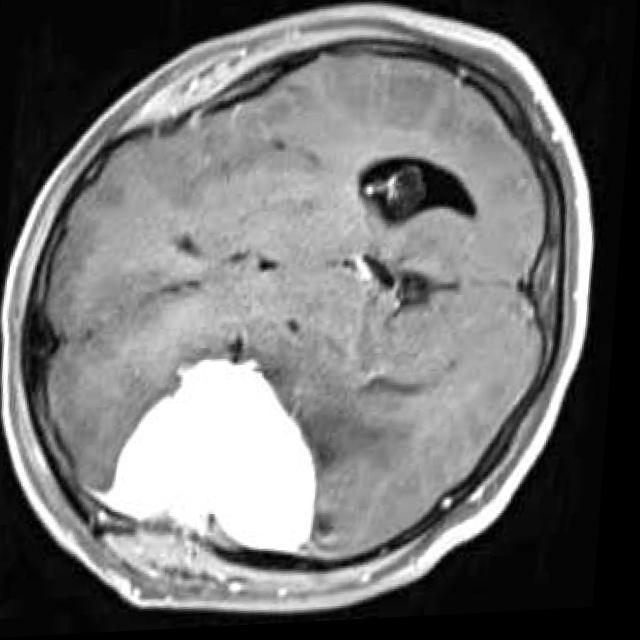Tumor: (109, 359, 323, 558)
